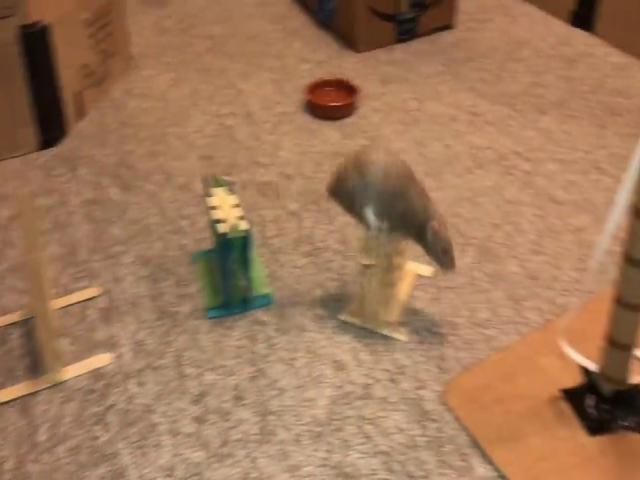Tikus: (324, 135, 458, 274)
